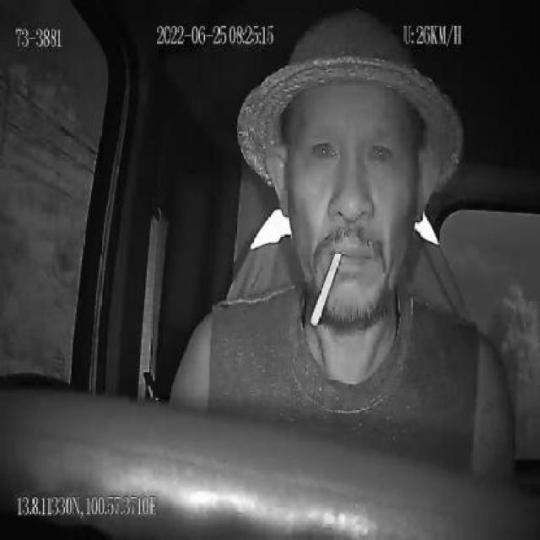smoking: (308, 245, 342, 341)
